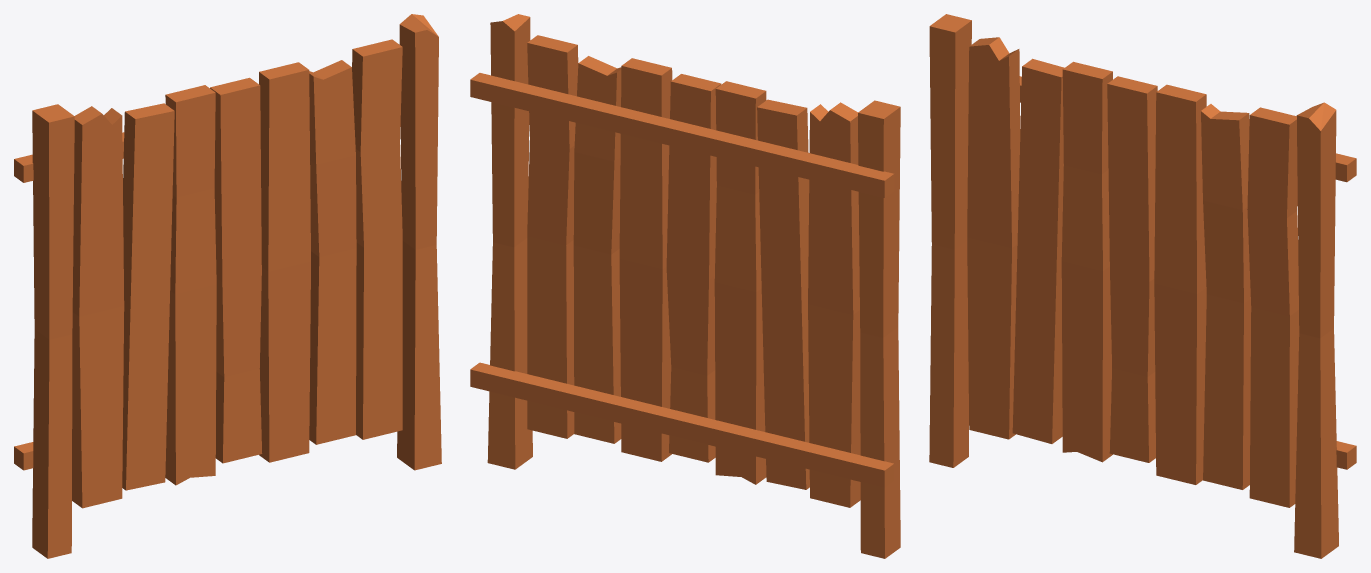
The model's file is Wood Fence 2.glb.
The picture shows the model from 3 angles, left to right: view 1: azimuth 30°, elevation 25°; view 2: azimuth 150°, elevation 25°; view 3: azimuth 330°, elevation 25°; orthographic projection.
Parts seen in each view (by area): view 1: WoodFence2; view 2: WoodFence2; view 3: WoodFence2.
Boxes of the visible parts, bbox=[...] form: WoodFence2: bbox=[14, 14, 441, 558]; WoodFence2: bbox=[470, 14, 900, 558]; WoodFence2: bbox=[929, 14, 1356, 558].
Size of the model in its own units: 2 by 2.05 by 0.2176.
